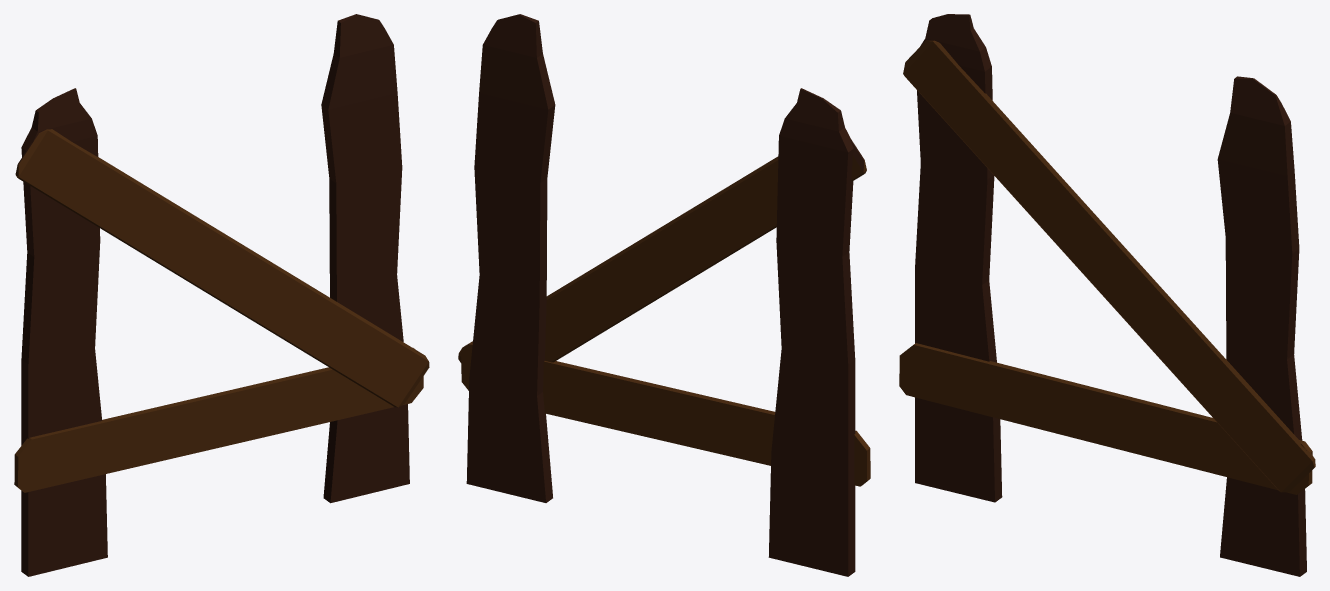
File: fence2.fbx
The picture shows the model from 3 angles, left to right: view 1: azimuth 30°, elevation 25°; view 2: azimuth 150°, elevation 25°; view 3: azimuth 330°, elevation 25°; orthographic projection.
Visible parts, largest first — view 1: Plane.014; view 2: Plane.014; view 3: Plane.014.
Part boxes in pixels (left/top/right/bottom): Plane.014: left=14, top=14, right=429, bottom=576; Plane.014: left=458, top=14, right=870, bottom=576; Plane.014: left=899, top=14, right=1315, bottom=576.
Size of the model in its own units: 2.03 by 2.26 by 0.0906.
